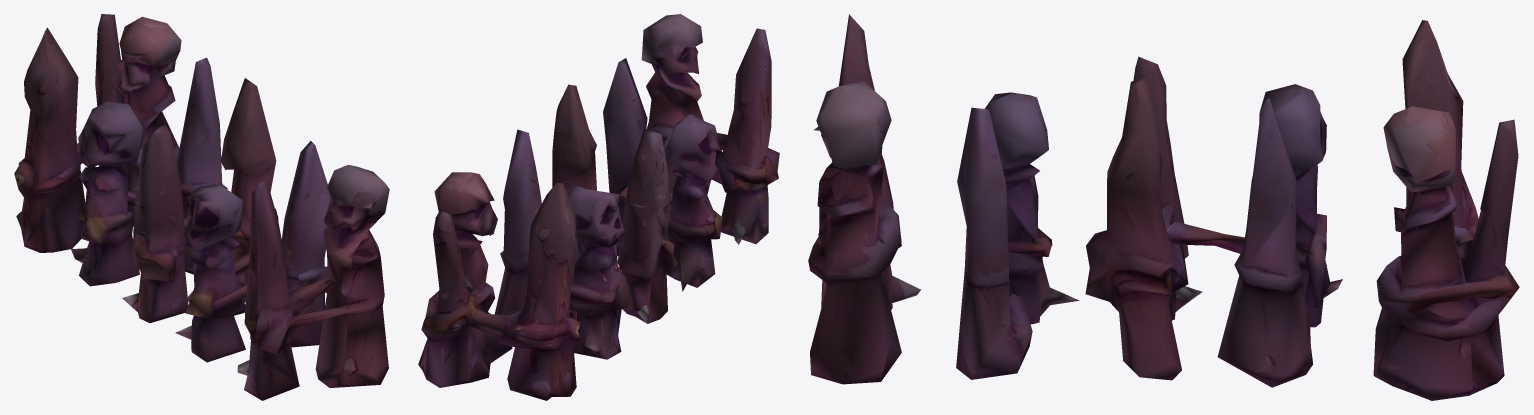
Rendered from stakes.glb.
The picture shows the model from 3 angles, left to right: view 1: azimuth 30°, elevation 25°; view 2: azimuth 150°, elevation 25°; view 3: azimuth 270°, elevation 25°; orthographic projection. The views are drawn at different scales.
Parts seen in each view (by area): view 1: tripo_node_08801a70-0eff-4395-8b89-b22e4add4bf9; view 2: tripo_node_08801a70-0eff-4395-8b89-b22e4add4bf9; view 3: tripo_node_08801a70-0eff-4395-8b89-b22e4add4bf9.
Part boxes in pixels (box(x1,y1,x2,y2)): tripo_node_08801a70-0eff-4395-8b89-b22e4add4bf9: box(14, 14, 389, 400); tripo_node_08801a70-0eff-4395-8b89-b22e4add4bf9: box(418, 14, 779, 400); tripo_node_08801a70-0eff-4395-8b89-b22e4add4bf9: box(808, 14, 1519, 400).
Size of the model in its own units: 0.3557 by 0.4612 by 0.9969.
Materials: 1 (1 with a texture image).
